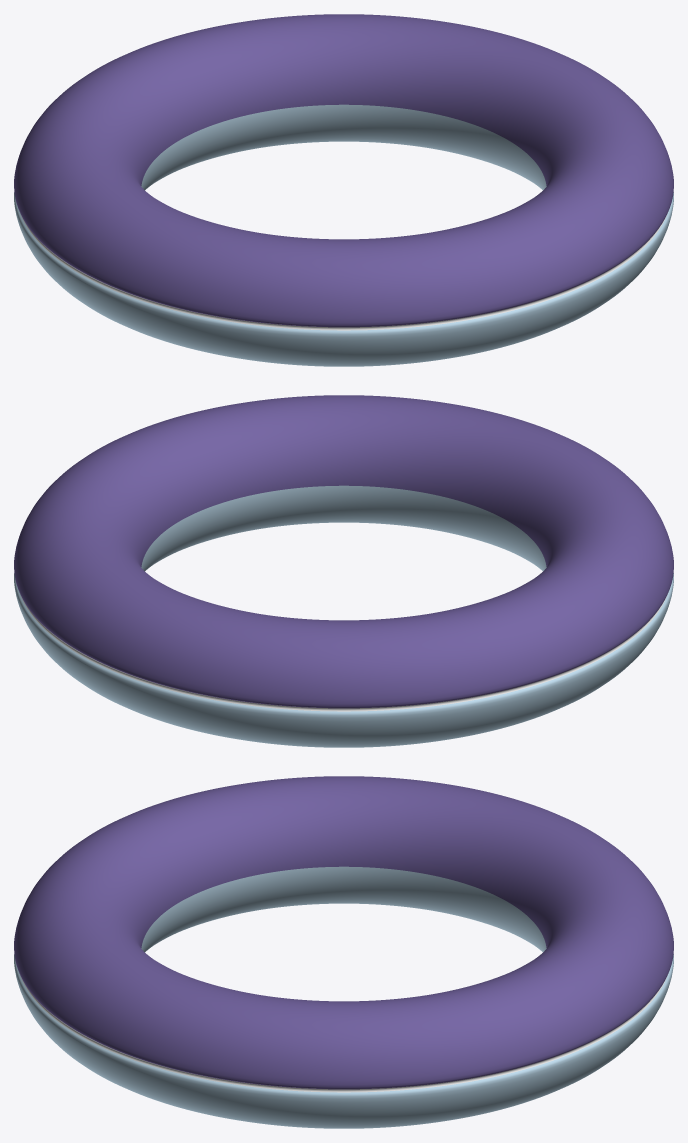
Rendered from Hoop.fbx.
The picture shows the model from 3 angles, top to bottom: view 1: azimuth 30°, elevation 25°; view 2: azimuth 150°, elevation 25°; view 3: azimuth 270°, elevation 25°; orthographic projection.
Parts seen in each view (by area): view 1: Hoop; view 2: Hoop; view 3: Hoop.
Boxes of the visible parts, bbox=[...] form: Hoop: bbox=[14, 14, 673, 366]; Hoop: bbox=[14, 395, 673, 747]; Hoop: bbox=[14, 776, 673, 1128].
Bounding box in the file's own units: 247 × 47.77 × 247.
